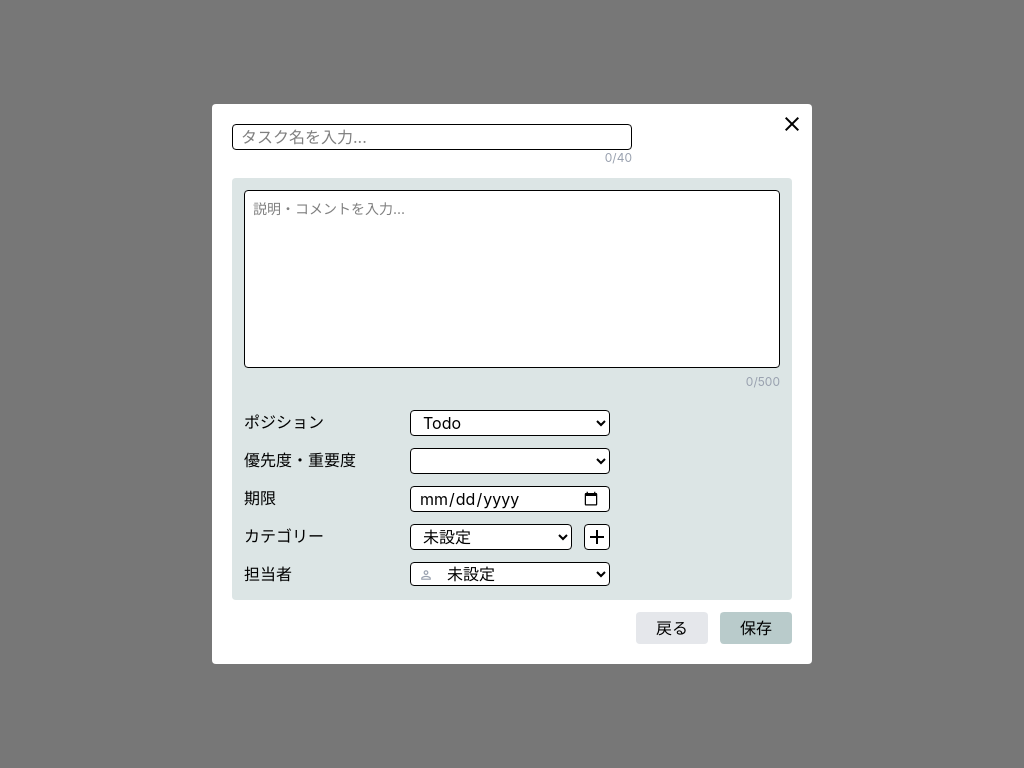
TaskModal（新規） › 開いた CategoryModal は閉じられる
The width and height of the screenshot is (1024, 768).
Click the button "add" in the row of "カテゴリー" at (597, 537), box left=584, top=524, right=610, bottom=550
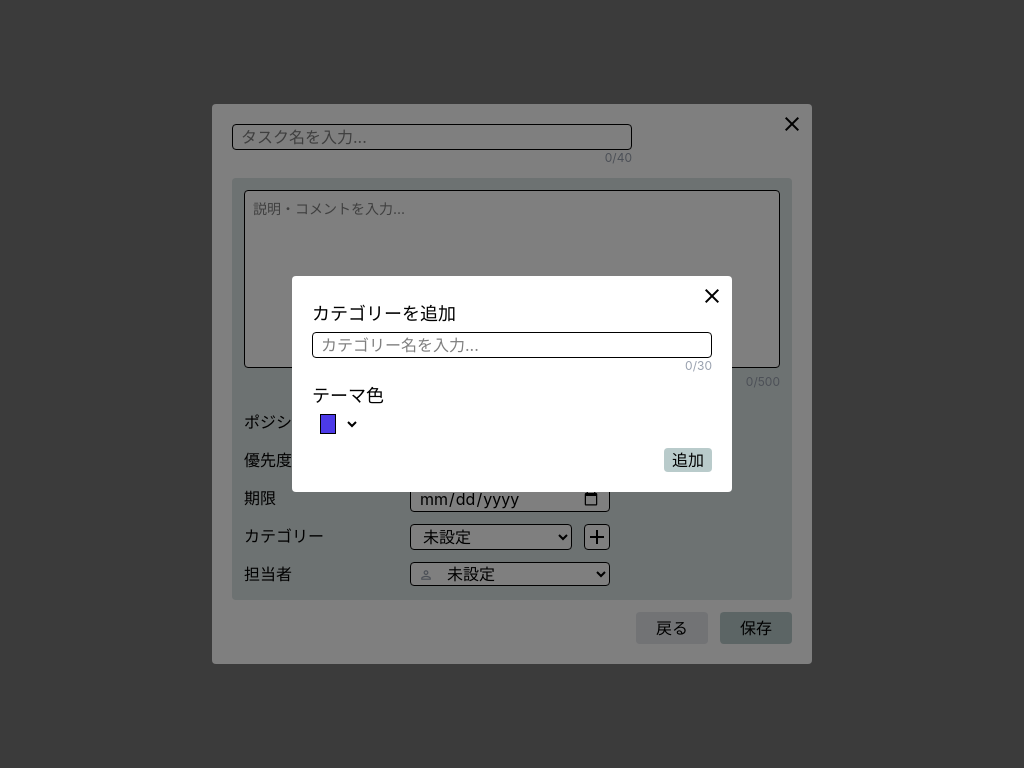
# 空名で「追加」→ 作成せず閉じる（onClose 経由で非表示）
Click the button "追加" at (688, 460), box left=664, top=448, right=712, bottom=472
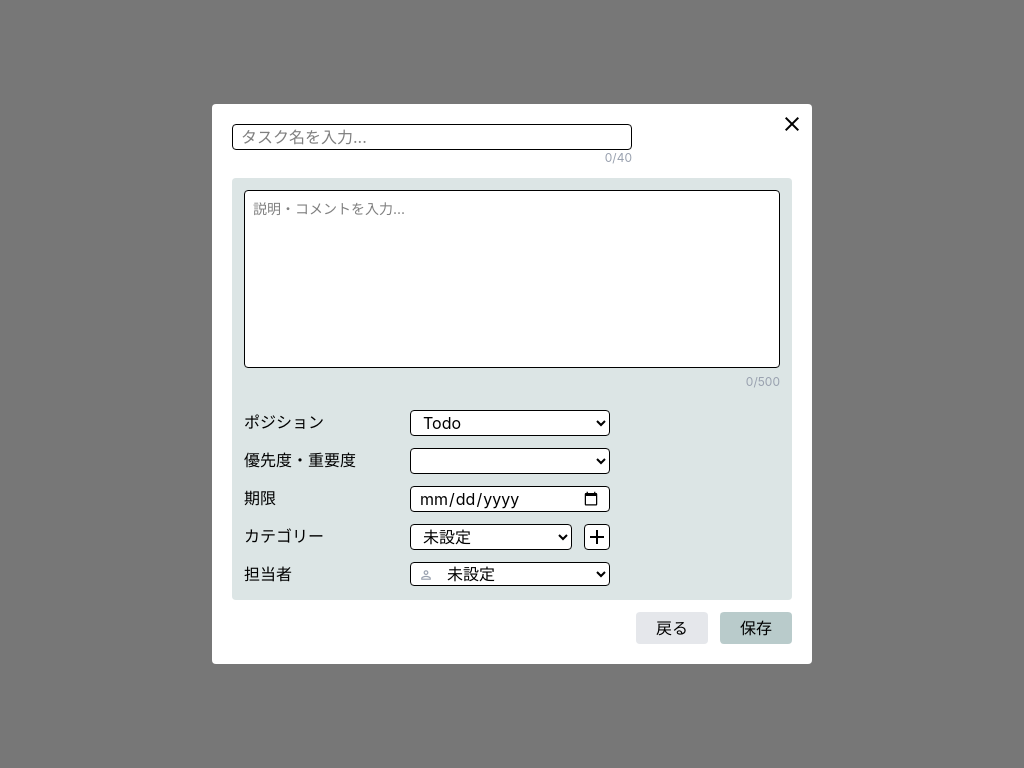
Now the text "カテゴリーを追加" is gone
